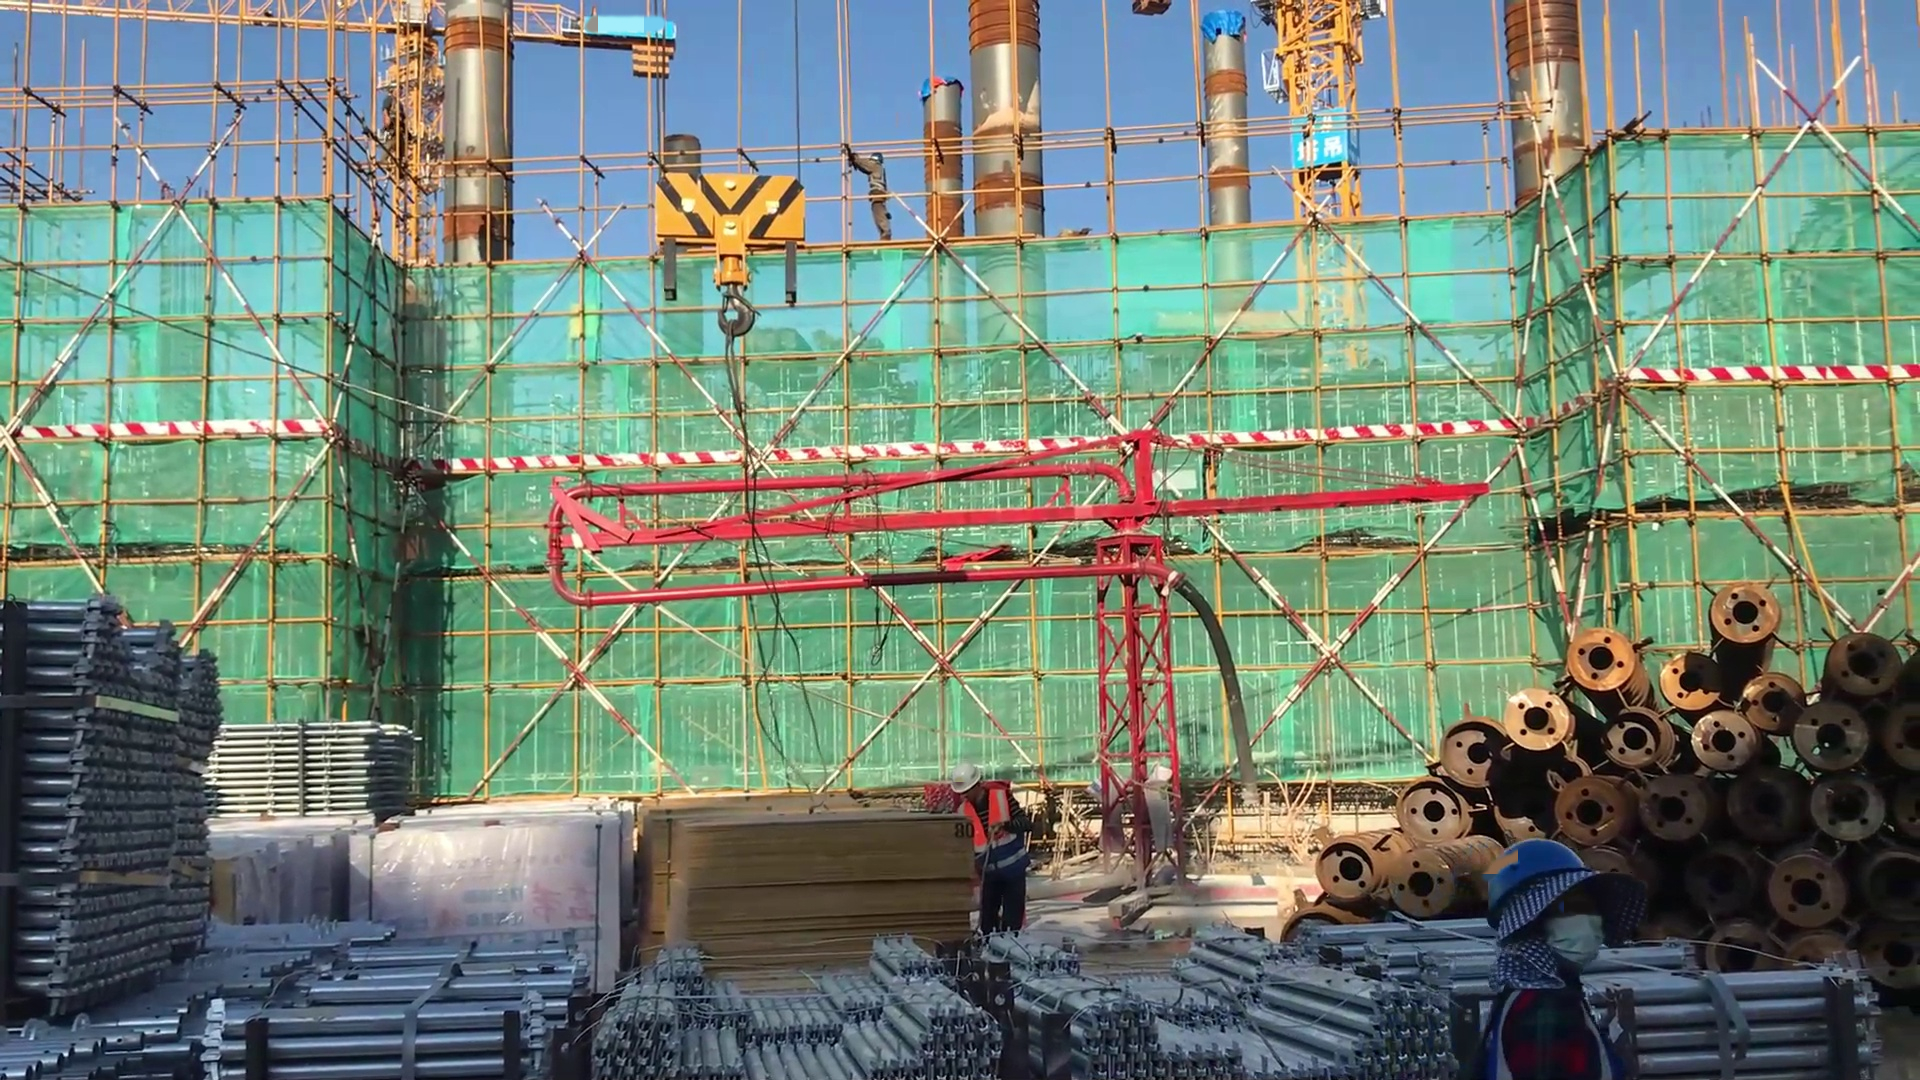board: (640, 802, 966, 961)
helmet: (1470, 834, 1606, 931), (938, 759, 993, 795), (869, 145, 886, 169)
hook: (620, 155, 834, 363)
person: (1442, 812, 1664, 1080), (936, 760, 1045, 949), (830, 137, 904, 250)
scaffold: (1, 602, 220, 1013), (1322, 917, 1881, 1078), (1016, 926, 1437, 1077), (601, 939, 1003, 1080), (1, 926, 356, 1078), (354, 931, 591, 1076), (222, 714, 420, 826)
slogan: (1298, 105, 1351, 173)
vest: (1475, 970, 1635, 1080), (952, 790, 1036, 882)
